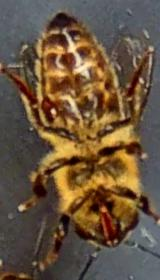varroa_mite: (40, 93, 61, 125)
